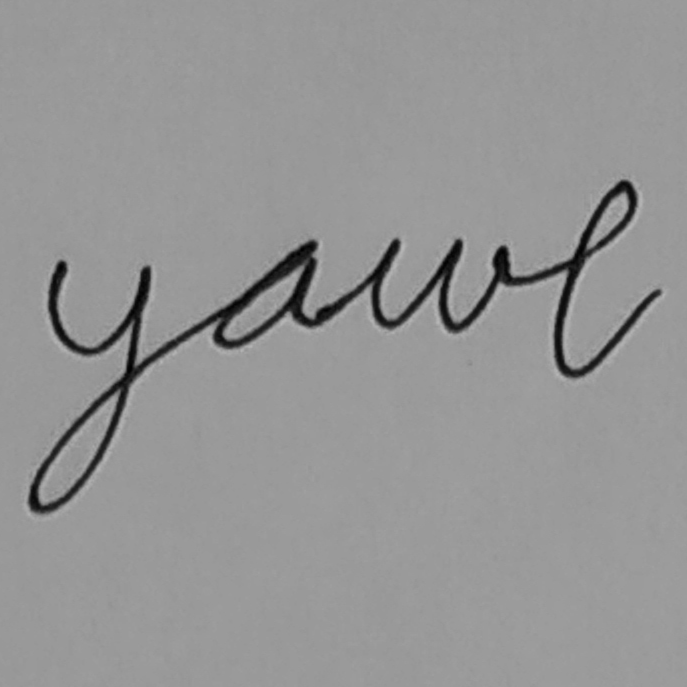a: (205, 234, 322, 356)
l: (548, 175, 664, 382)
w: (366, 231, 512, 338)
y: (21, 255, 156, 519)
